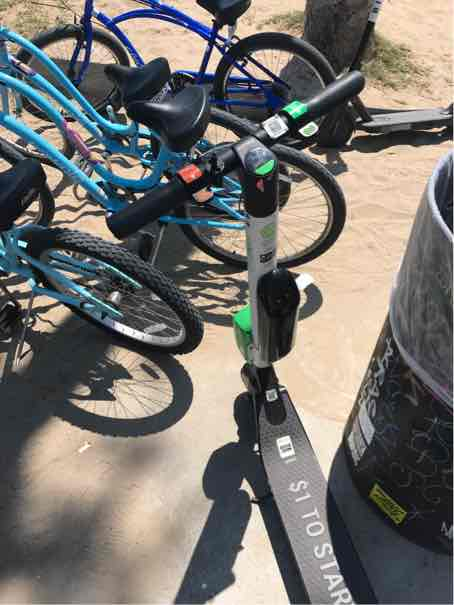scooter: (102, 63, 418, 605)
